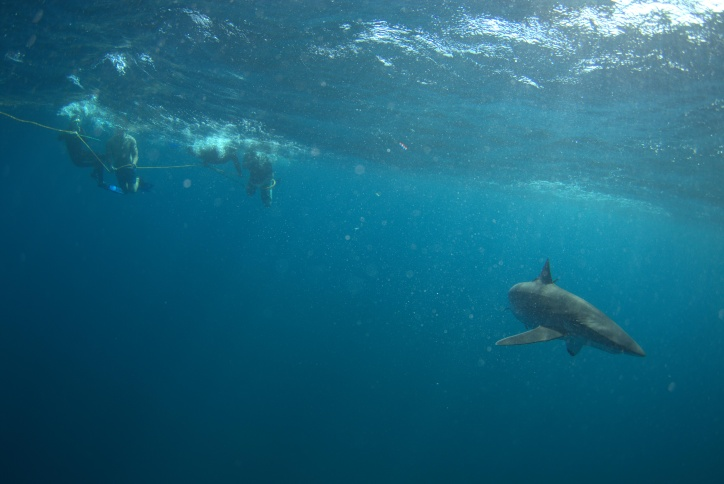Sedoso: (459, 253, 649, 368)
